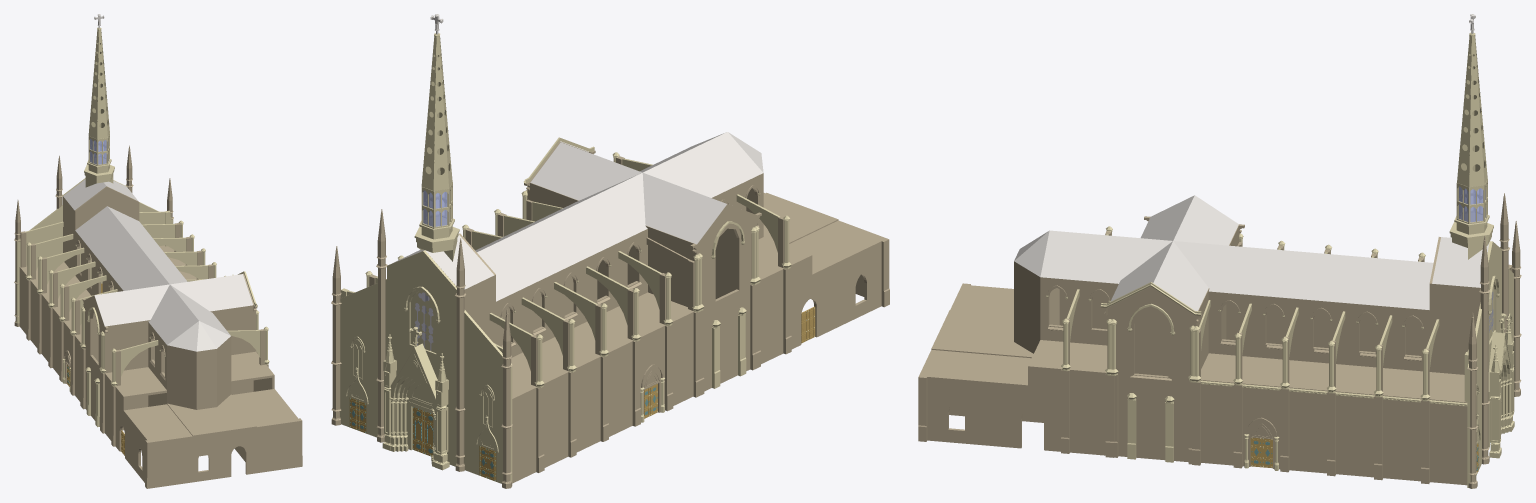
File: iglesia.glb
The picture shows the model from 3 angles, left to right: view 1: azimuth 30°, elevation 25°; view 2: azimuth 150°, elevation 25°; view 3: azimuth 270°, elevation 25°; orthographic projection. The views are drawn at different scales.
Visible parts, largest first — view 1: Group_3, Group_475, Group_2.010, Group_1.004, Group_516, Group_350.001, Group_8, Group_517, Group_470.001, Group_484, Group_6, Group_7 (+17 smaller); view 2: Group_516, Group_2.010, Group_3, Group_497, Group_350.001, Group_4.001, Group_13.001, Group_14.001, Group_517, Group_8, Group_6, Group_500 (+22 smaller); view 3: Group_515, Group_2.010, Group_470.001, Group_5.001, Group_1.004, Group_518, Group_3, Group_6, Group_8, Group_484, Group_350.001, Group_269 (+17 smaller).
Boxes of the visible parts, <box> form: Group_3: <box>85,274,253,430</box>; Group_475: <box>149,421,300,488</box>; Group_2.010: <box>75,206,187,295</box>; Group_1.004: <box>148,322,231,456</box>; Group_516: <box>19,262,91,401</box>; Group_350.001: <box>123,404,195,488</box>; Group_8: <box>148,284,230,344</box>; Group_517: <box>105,367,166,451</box>; Group_470.001: <box>232,389,300,472</box>; Group_484: <box>167,394,256,436</box>; Group_6: <box>63,179,137,268</box>; Group_7: <box>74,186,139,266</box>; Group_516: <box>511,292,693,483</box>; Group_2.010: <box>430,173,647,357</box>; Group_3: <box>530,142,757,298</box>; Group_497: <box>387,250,456,466</box>; Group_350.001: <box>789,220,886,337</box>; Group_4.001: <box>698,208,756,391</box>; Group_13.001: <box>464,310,512,485</box>; Group_14.001: <box>335,279,386,437</box>; Group_517: <box>758,237,812,363</box>; Group_8: <box>640,132,762,197</box>; Group_6: <box>392,234,494,347</box>; Group_500: <box>527,182,696,306</box>; Group_515: <box>1200,353,1467,485</box>; Group_2.010: <box>1164,241,1433,376</box>; Group_470.001: <box>919,350,1040,448</box>; Group_5.001: <box>1107,286,1193,462</box>; Group_1.004: <box>1014,261,1163,375</box>; Group_518: <box>1028,340,1107,455</box>; Group_3: <box>1107,195,1238,367</box>; Group_6: <box>1432,237,1492,374</box>; Group_8: <box>1040,230,1172,283</box>; Group_484: <box>931,310,1059,358</box>; Group_350.001: <box>950,285,1013,315</box>; Group_269: <box>1469,36,1484,187</box>.
Bounding box in the file's own units: 28.13 × 39.08 × 50.38.
